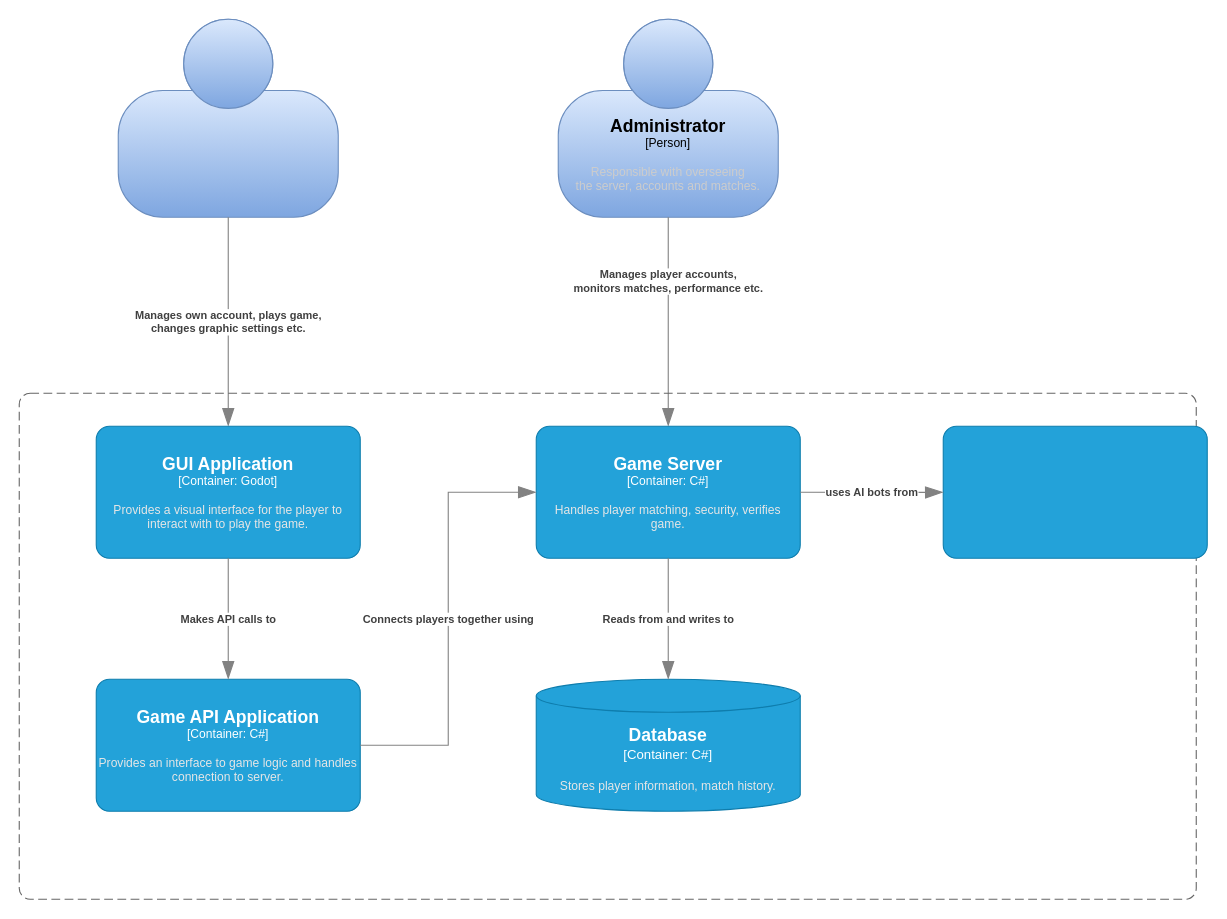
Image size: 1227x919. Some labels were removed from this diagram. Each missing label, with the box of its shape:
AI Server [Container: C#] Offers AI bots to main server.: (942, 425, 1207, 558)
Player [Person] A person that plays the game.: (117, 18, 338, 217)
System name [Dune Game]: (18, 392, 1196, 899)
